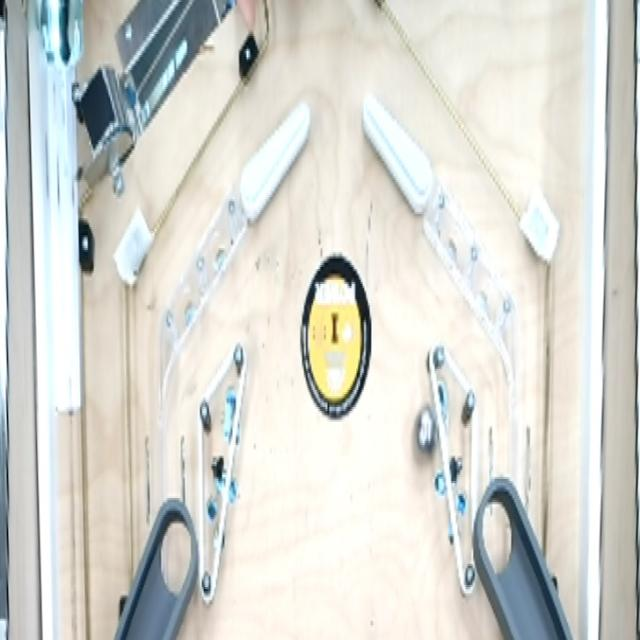ball: (412, 401, 439, 468)
flipper-left: (359, 79, 437, 232)
flipper-right: (240, 90, 312, 233)
